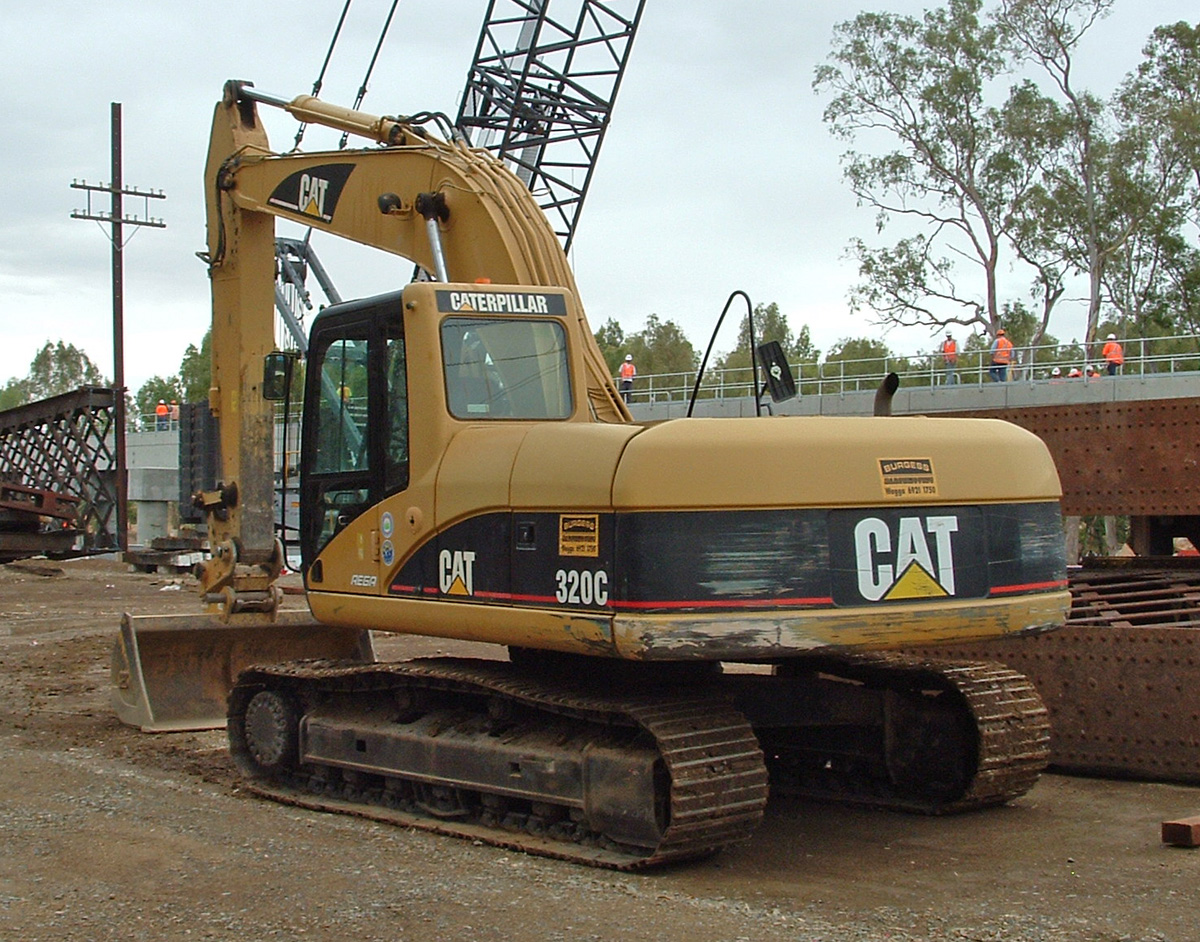excavator: (112, 77, 1070, 873)
